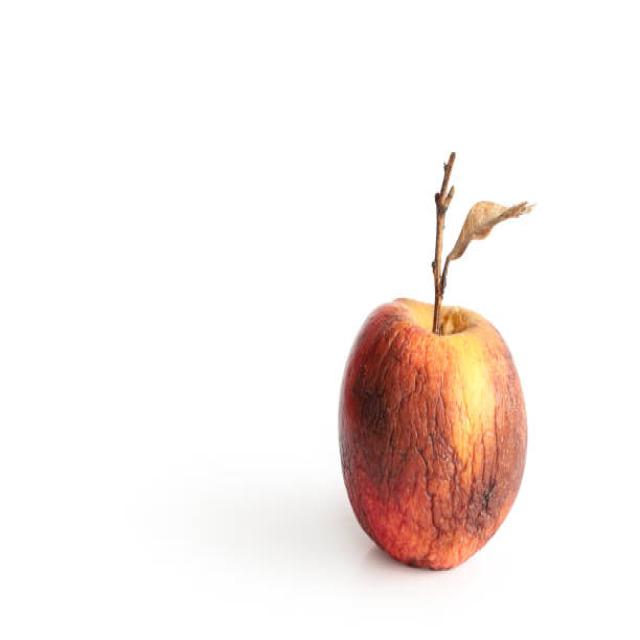overripe: (336, 291, 532, 574)
